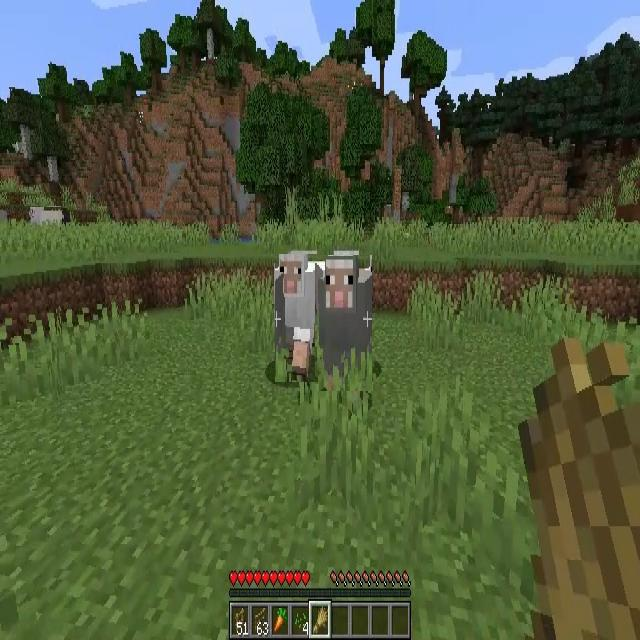sheep: (315, 255, 372, 391), (275, 254, 321, 382), (30, 208, 62, 228)
